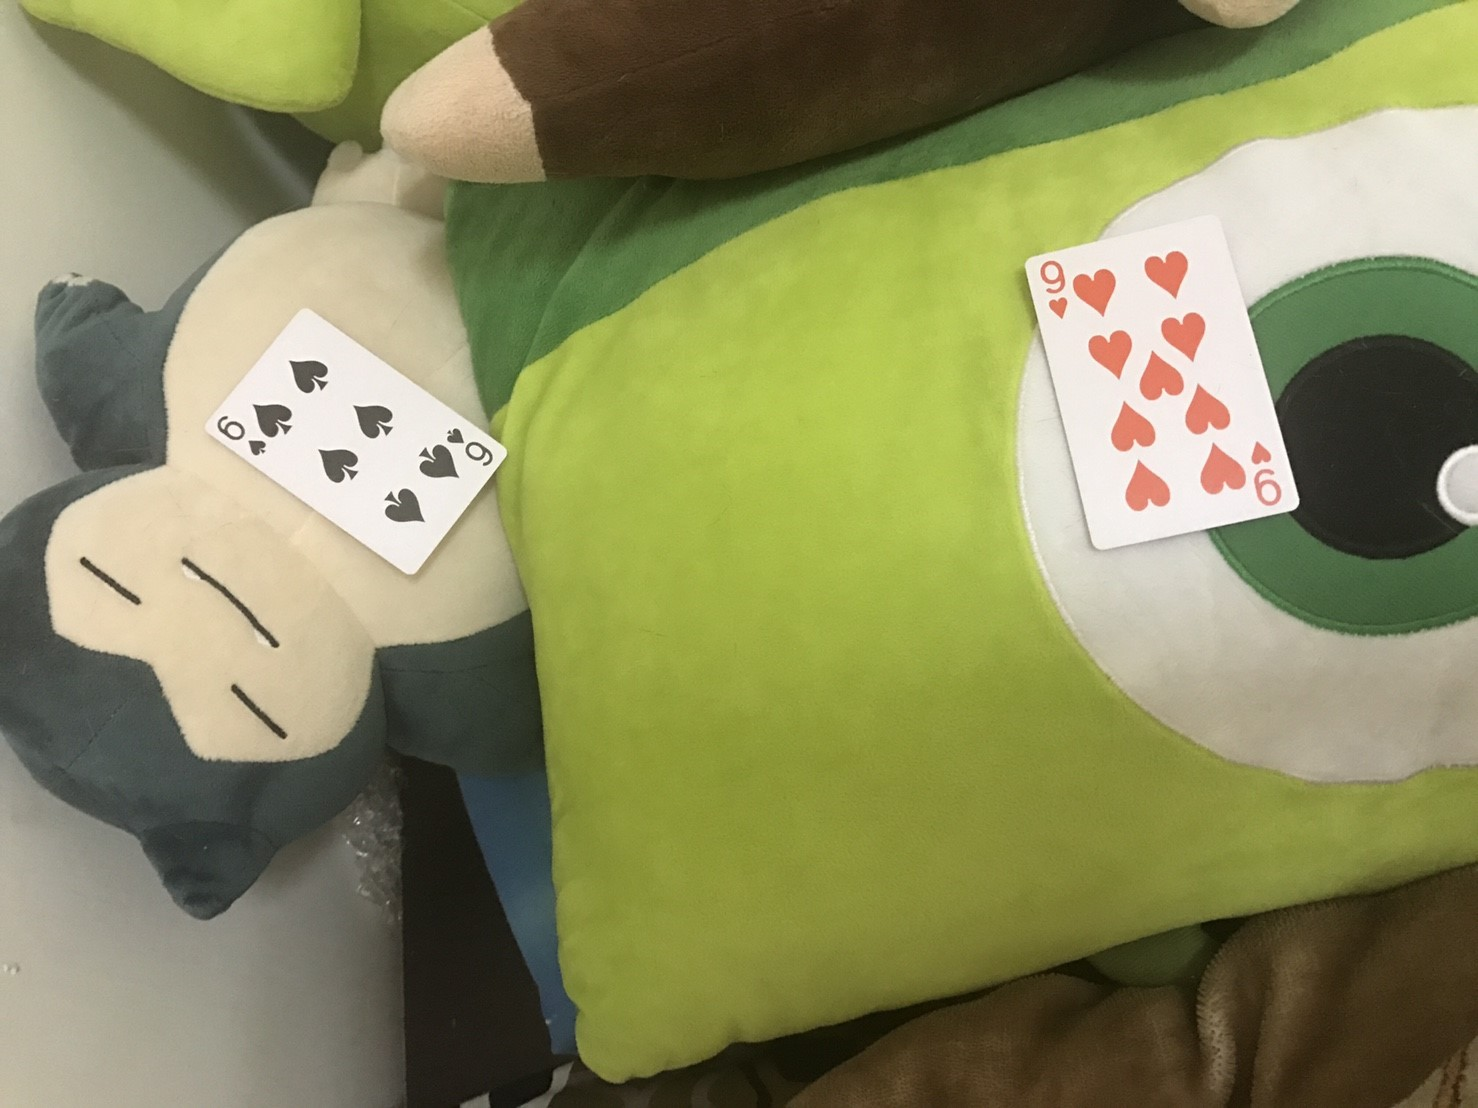hearts: (1202, 436, 1256, 505), (1100, 397, 1164, 452), (1135, 351, 1191, 404), (1068, 270, 1131, 317), (1083, 332, 1139, 383), (1127, 459, 1173, 514), (1185, 391, 1241, 436), (1159, 315, 1209, 364), (1143, 255, 1195, 298), (1043, 293, 1076, 325), (1249, 433, 1277, 469)
spades: (346, 398, 400, 443), (381, 484, 429, 530), (286, 355, 335, 395), (418, 443, 463, 484), (317, 443, 360, 483), (255, 404, 299, 439), (239, 436, 273, 459), (445, 426, 468, 452)
